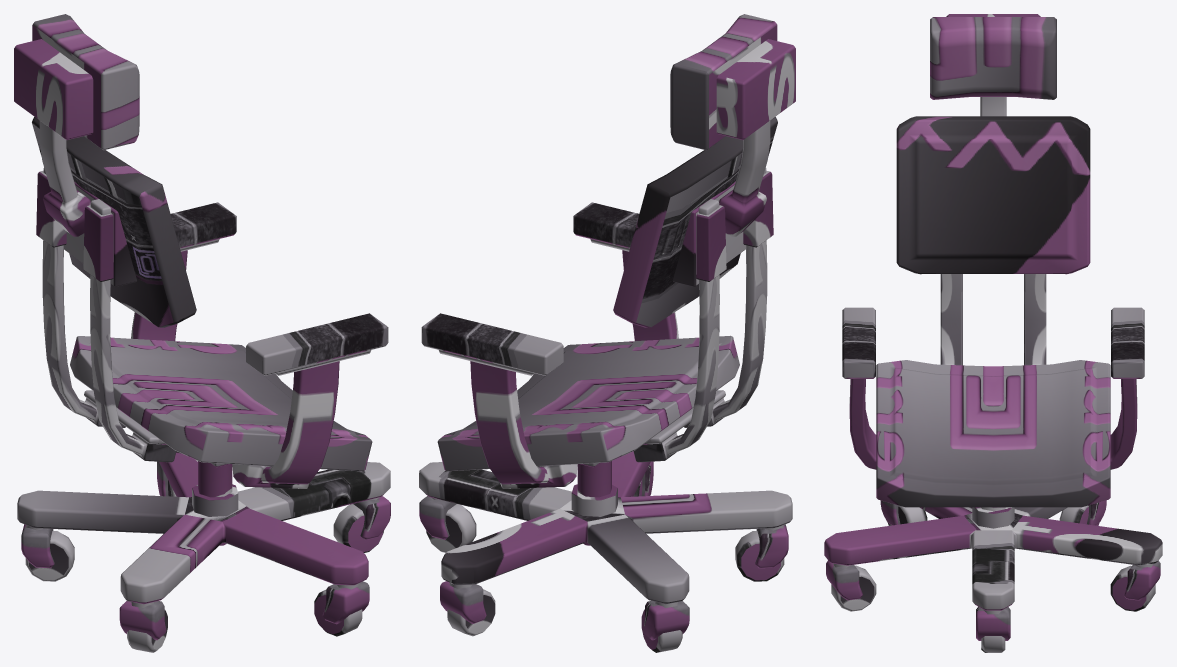
Rendered from SM_MetalOfficeChairWithWheels.fbx.
The picture shows the model from 3 angles, left to right: view 1: azimuth 30°, elevation 25°; view 2: azimuth 150°, elevation 25°; view 3: azimuth 270°, elevation 25°; orthographic projection. The views are drawn at different scales.
Parts seen in each view (by area): view 1: MOCWW Seat, MOCWW Back Rest, MOCWW Wheels base, MOCWW Armrests, PME Wheels, MOCWW main pole; view 2: MOCWW Seat, MOCWW Back Rest, MOCWW Wheels base, MOCWW Armrests, PME Wheels, MOCWW main pole; view 3: MOCWW Back Rest, MOCWW Seat, MOCWW Wheels base, MOCWW Armrests, PME Wheels, MOCWW main pole.
Part boxes in pixels (x1=…): MOCWW Seat: x1=36, y1=167, x2=372, y2=471; MOCWW Back Rest: x1=14, y1=14, x2=196, y2=327; MOCWW Wheels base: x1=17, y1=451, x2=390, y2=604; MOCWW Armrests: x1=131, y1=202, x2=388, y2=488; PME Wheels: x1=21, y1=461, x2=390, y2=652; MOCWW main pole: x1=192, y1=461, x2=238, y2=545; MOCWW Seat: x1=437, y1=167, x2=773, y2=471; MOCWW Back Rest: x1=613, y1=14, x2=795, y2=327; MOCWW Wheels base: x1=419, y1=451, x2=792, y2=604; MOCWW Armrests: x1=421, y1=202, x2=678, y2=488; PME Wheels: x1=419, y1=461, x2=788, y2=652; MOCWW main pole: x1=571, y1=461, x2=617, y2=545; MOCWW Back Rest: x1=896, y1=14, x2=1090, y2=274; MOCWW Seat: x1=876, y1=274, x2=1110, y2=507; MOCWW Wheels base: x1=824, y1=507, x2=1162, y2=610; MOCWW Armrests: x1=842, y1=307, x2=1144, y2=469; PME Wheels: x1=826, y1=500, x2=1160, y2=652; MOCWW main pole: x1=972, y1=507, x2=1014, y2=528.
Size of the model in its own units: 64.89 by 61.66 by 102.
